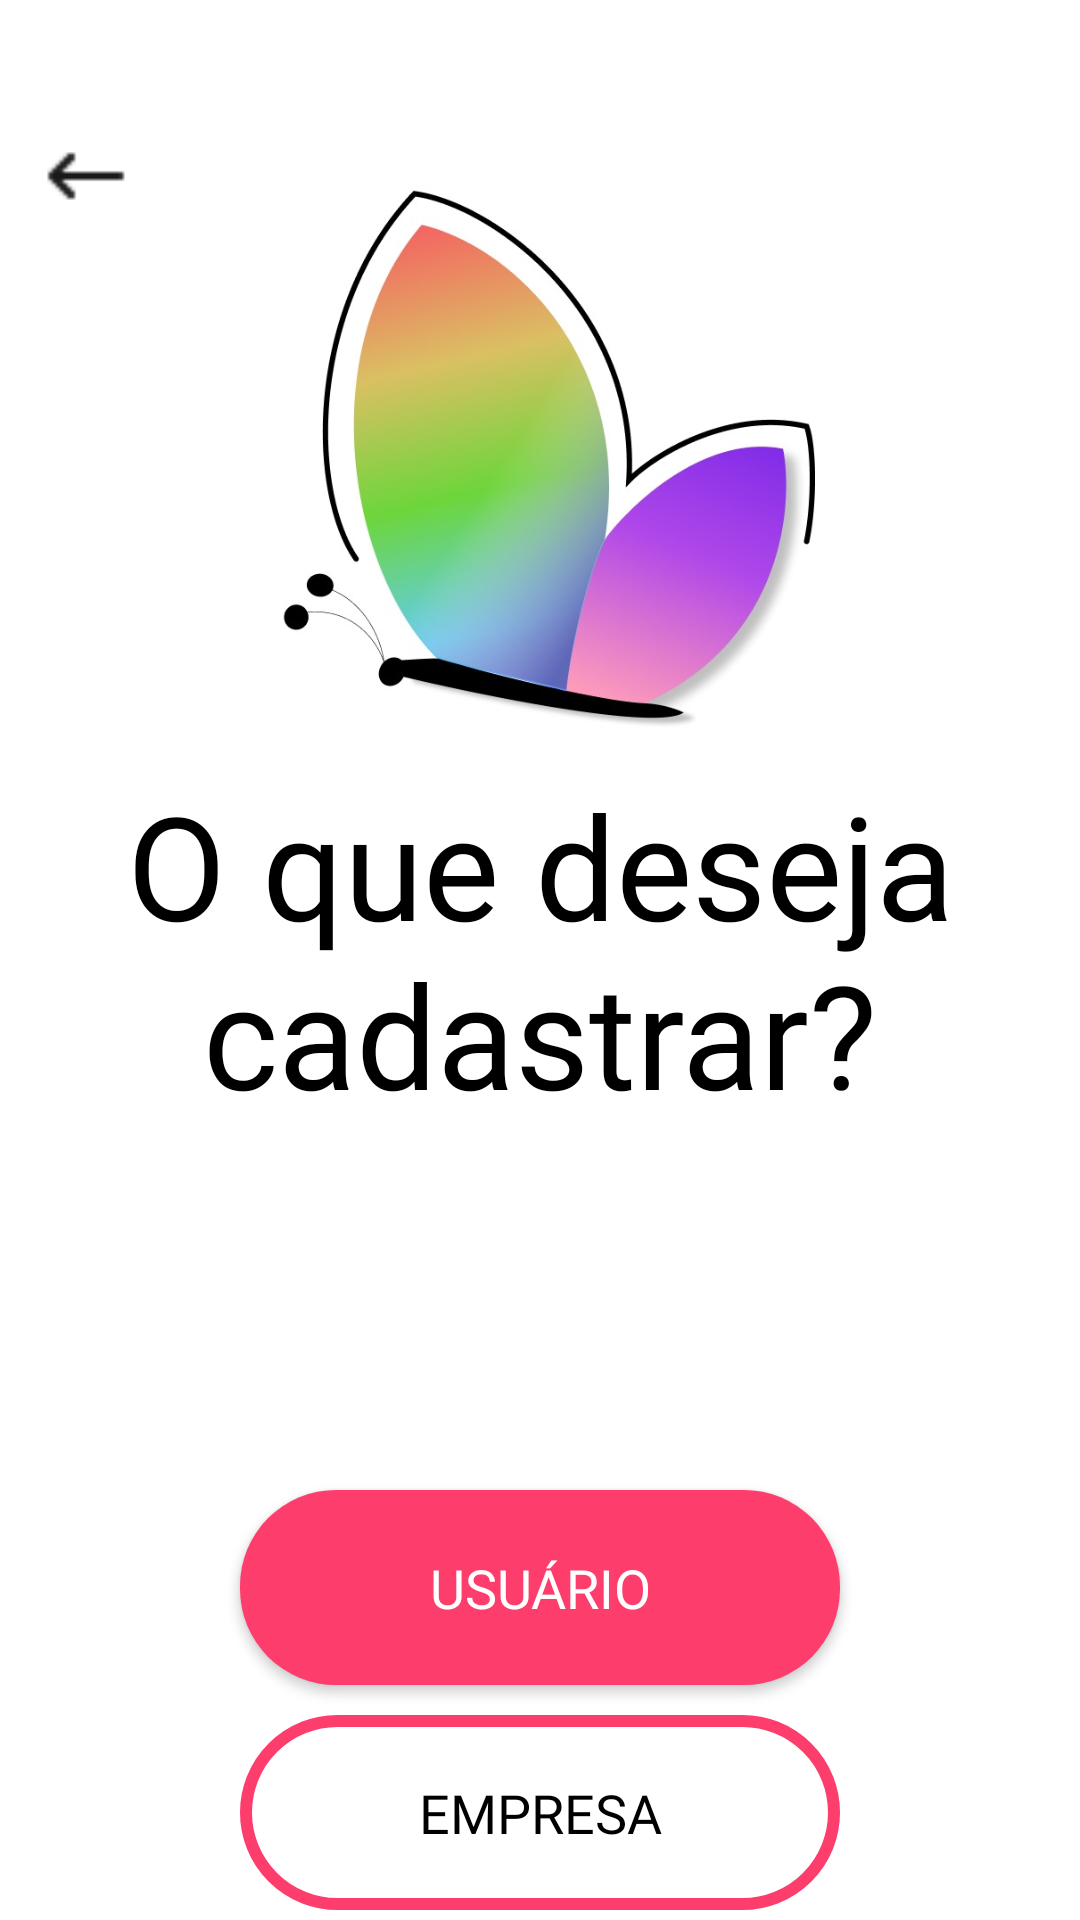

Where icons sit on this 1080 × 1920 app screen, as Rect(x1, y1, x2, y2):
voltar seta: Rect(47, 152, 125, 200)
